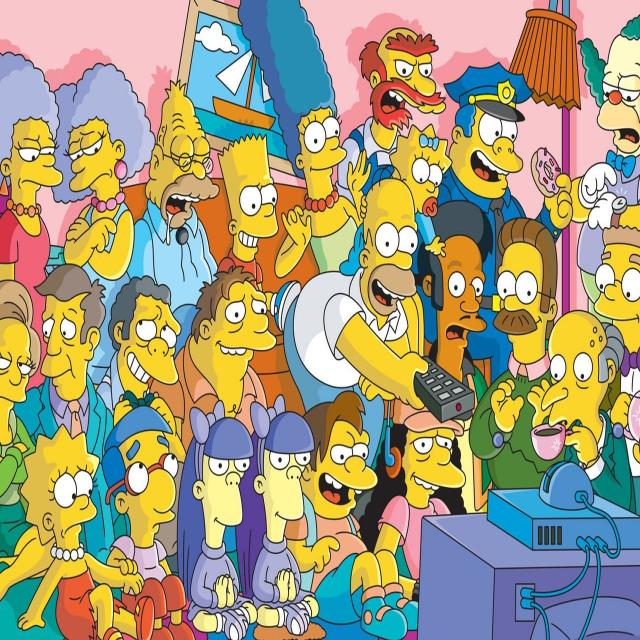Abraham Grampa Simpson: (145, 78, 220, 234)
Barney Gumble: (189, 264, 278, 397)
Bart Simpson: (217, 133, 280, 263)
Charles Montgomery Burns: (540, 311, 626, 449)
Chief Wiggam: (445, 60, 533, 199)
Edna Krappel: (0, 279, 42, 451)
Groundskeeper Willie: (358, 24, 447, 132)
Homer Simpson: (359, 168, 420, 322)
Krusty the Clown: (577, 10, 640, 161)
Lisa Simpson: (19, 424, 102, 562)
Maggie Simpson: (390, 122, 452, 220)
Marge Simpson: (240, 1, 346, 198)
